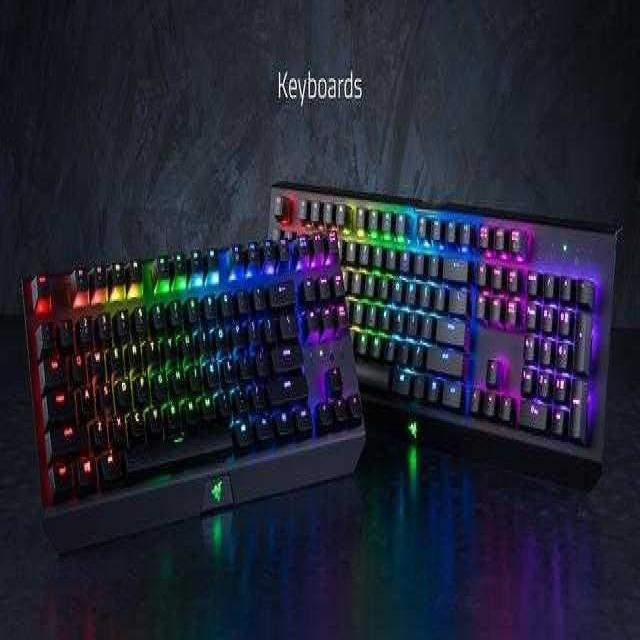keyboard: (13, 224, 374, 562)
